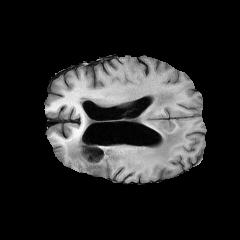glioma: (66, 90, 189, 169)
